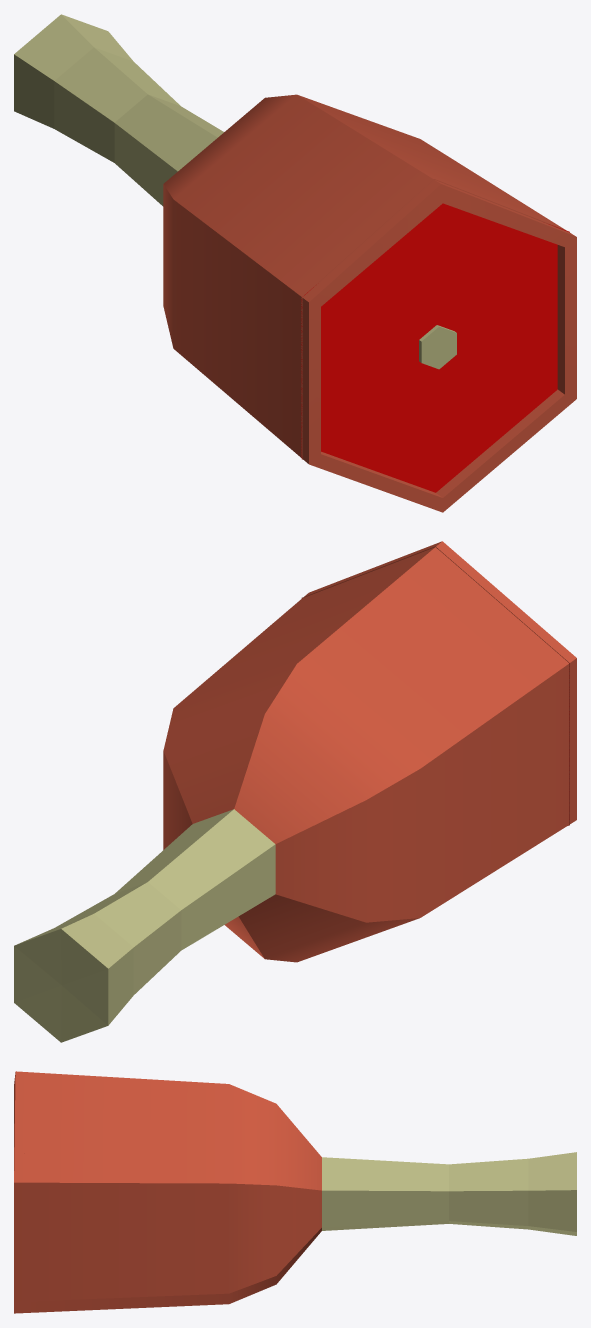
Rendered from I_Meat_1.fbx.
The picture shows the model from 3 angles, top to bottom: view 1: azimuth 30°, elevation 25°; view 2: azimuth 150°, elevation 25°; view 3: azimuth 270°, elevation 25°; orthographic projection. The views are drawn at different scales.
Visible parts, largest first — view 1: Cylinder; view 2: Cylinder; view 3: Cylinder.
Part boxes in pixels (x1,y1,x2,y2): Cylinder: (14, 14, 576, 512); Cylinder: (14, 541, 576, 1042); Cylinder: (14, 1071, 576, 1313).
Size of the model in its own units: 14.71 by 17.21 by 36.29.
